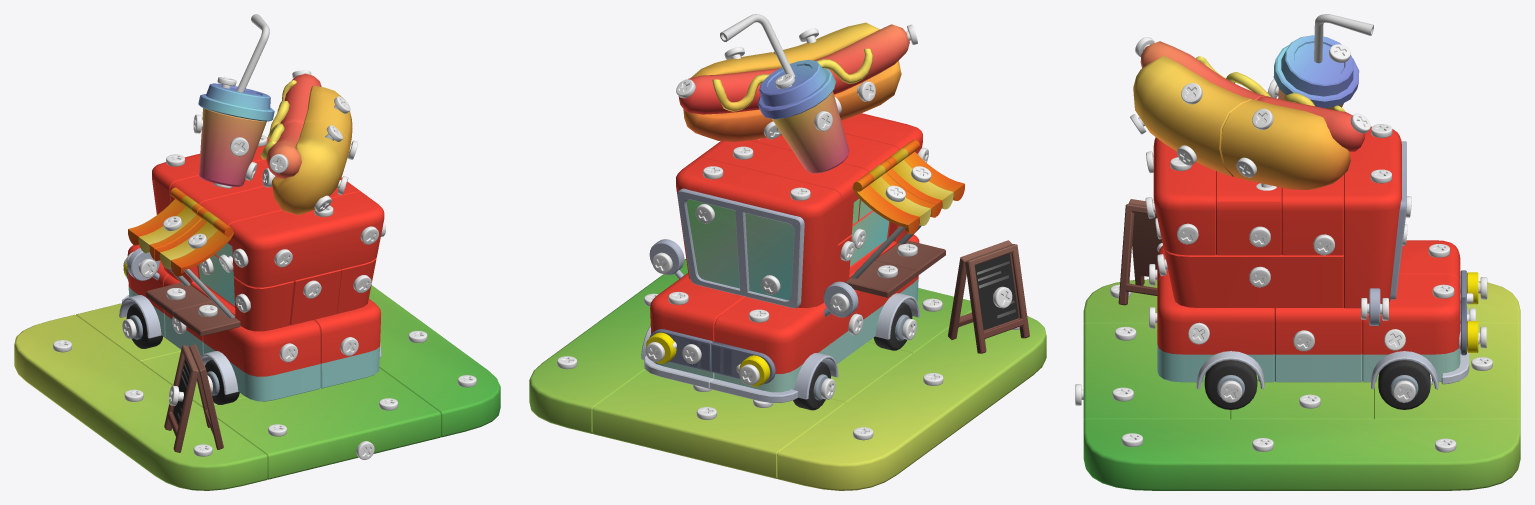
File: Level_164.fbx
3 renders of one model, left to right at view 1: azimuth 30°, elevation 25°; view 2: azimuth 150°, elevation 25°; view 3: azimuth 270°, elevation 25°, orthographic. The views are drawn at different scales.
Visible parts, largest first — view 1: Cube_L3 1.001, Cube_L3 5.001, Cube_L2 26, Cube_L3 2.001, Cube_L2 24, Cube_L1 3.005, Cube_L2 23, Cube_L2 17.002, Cube_L1 1.005, Cube_L1 2.005, Cube_L3 4.001, Cube_L2 21.002 (+16 smaller); view 2: Cube_L3 1.001, Cube_L2 8.003, Cube_L3.001, Cube_L3 2.001, Cube_L2 4.003, Cube_L1 3.005, Cube_L1 2.005, Cube_L3 4.001, Cube_L2 5.003, Cube_L2 13.002, Cube_L1.005, Cube_L1 1.005 (+17 smaller); view 3: Cube_L3 2.001, Cube_L1 2.005, Cube_L2 8.003, Cube_L1 3.005, Cube_L3 5.001, Cube_L2 15.002, Cube_L2 23, Cube_L2 5.003, Cube_L3.001, Cube_L2 12.003, Cube_L2 26, Cube_L1.005 (+8 smaller).
Boxes of the visible parts, x1,y1,x2,y2 form: Cube_L3 1.001: (14,314,267,490); Cube_L3 5.001: (214,368,440,479); Cube_L2 26: (227,192,384,287); Cube_L3 2.001: (369,285,500,437); Cube_L2 24: (200,320,320,401); Cube_L1 3.005: (260,121,348,215); Cube_L2 23: (314,299,381,388); Cube_L2 17.002: (178,254,294,331); Cube_L1 1.005: (199,108,266,186); Cube_L1 2.005: (269,73,352,153); Cube_L3 4.001: (164,344,223,452); Cube_L2 21.002: (155,208,234,318); Cube_L3 1.001: (777,311,1046,490); Cube_L2 8.003: (676,158,841,308); Cube_L3.001: (592,369,845,478); Cube_L3 2.001: (529,259,687,433); Cube_L2 4.003: (710,297,838,402); Cube_L1 3.005: (773,22,909,120); Cube_L1 2.005: (678,52,781,141); Cube_L3 4.001: (948,240,1029,353); Cube_L2 5.003: (641,273,744,388); Cube_L2 13.002: (697,140,868,244); Cube_L1.005: (720,14,835,119); Cube_L1 1.005: (772,91,849,173); Cube_L3 2.001: (1083,419,1520,490); Cube_L1 2.005: (1221,93,1365,189); Cube_L2 8.003: (1344,126,1406,308); Cube_L1 3.005: (1133,41,1271,176); Cube_L3 5.001: (1083,323,1230,420); Cube_L2 15.002: (1163,246,1343,308); Cube_L2 23: (1157,274,1274,389); Cube_L2 5.003: (1362,274,1469,389); Cube_L3.001: (1374,323,1520,420); Cube_L2 12.003: (1274,307,1362,382); Cube_L2 26: (1153,137,1215,255); Cube_L1.005: (1273,14,1373,108).
Bounding box in the file's own units: 13.48 × 13.74 × 13.74.
